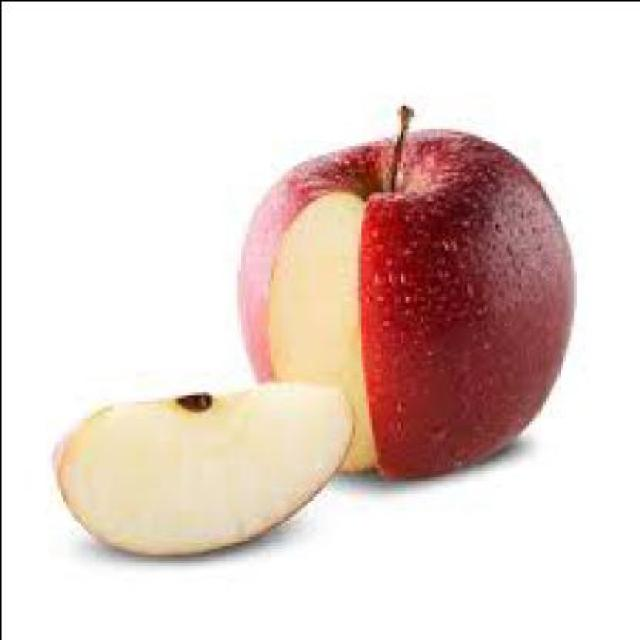BIODEGRADABLE: (238, 128, 576, 478), (56, 385, 352, 555), (390, 105, 414, 192)
